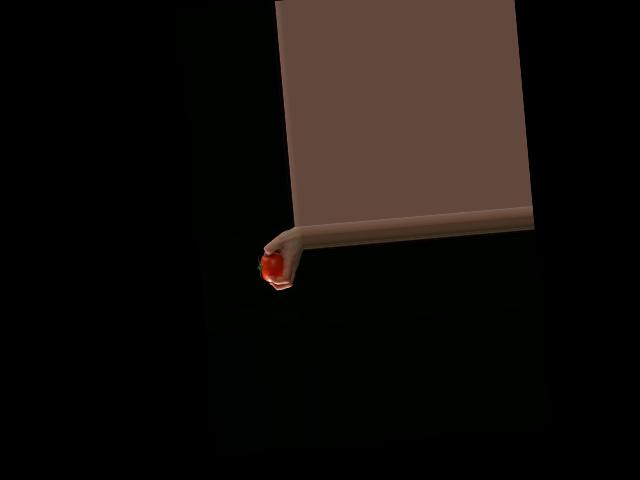tomato: (257, 251, 284, 282)
